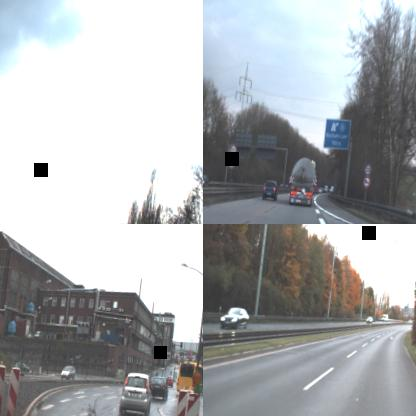no overtaking: (362, 174, 372, 188), (226, 154, 236, 168)
speed limit 120: (227, 143, 237, 156), (363, 162, 372, 176)
